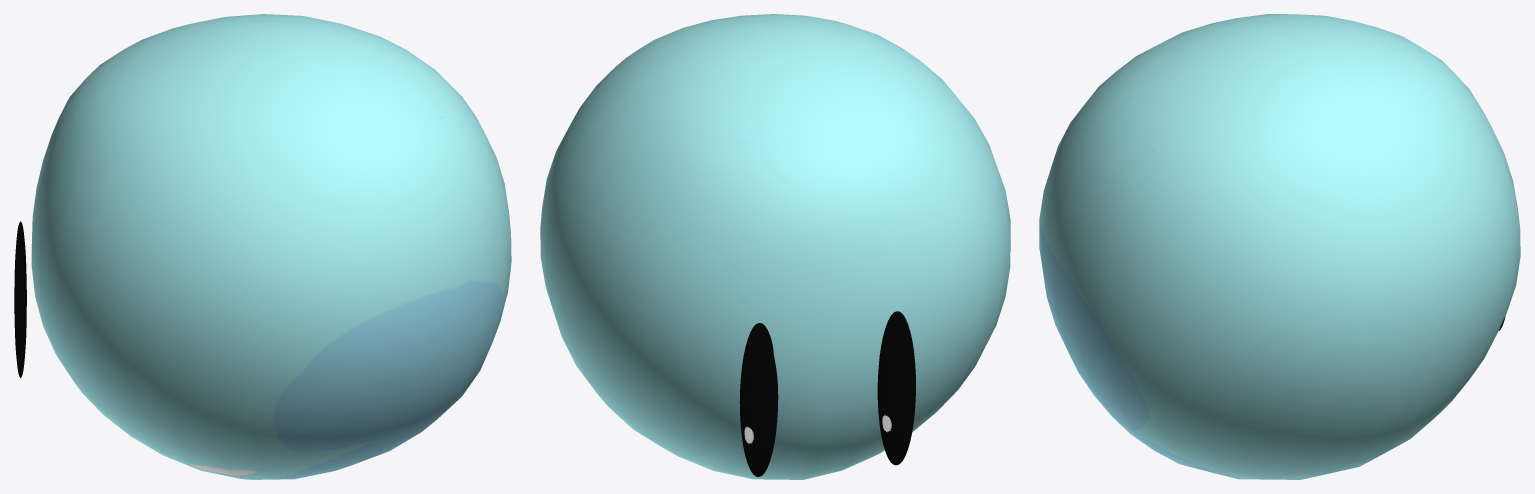
File: rorinngu.fbx
3 views of the same model, side by side, from view 1: azimuth 30°, elevation 25°; view 2: azimuth 150°, elevation 25°; view 3: azimuth 270°, elevation 25° (orthographic).
Visible parts, largest first — view 1: polySurface2; view 2: polySurface2; view 3: polySurface2.
Part boxes in pixels (x1,y1,x2,y2): polySurface2: (14,14,511,479); polySurface2: (540,14,1010,479); polySurface2: (1039,14,1520,479).
Size of the model in its own units: 2.39 by 2.3 by 2.38.
2 materials, 2 textured.
